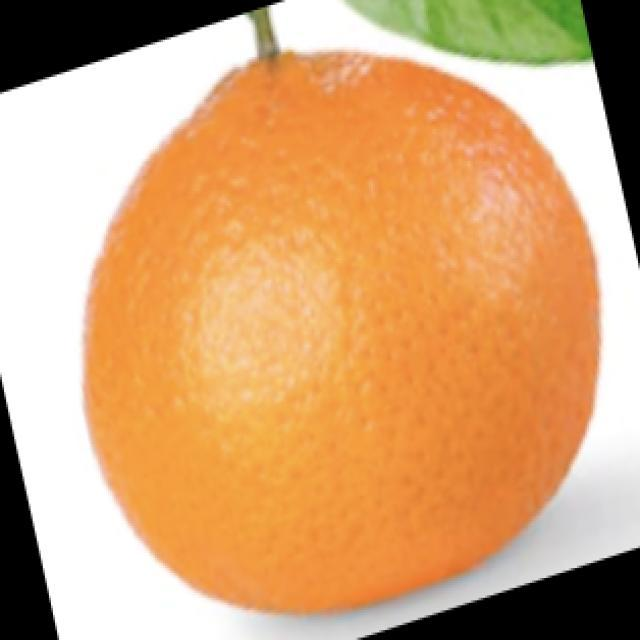matang: (87, 53, 598, 611)
